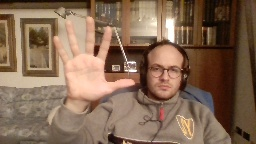Mano_aperta: (48, 15, 137, 101)
